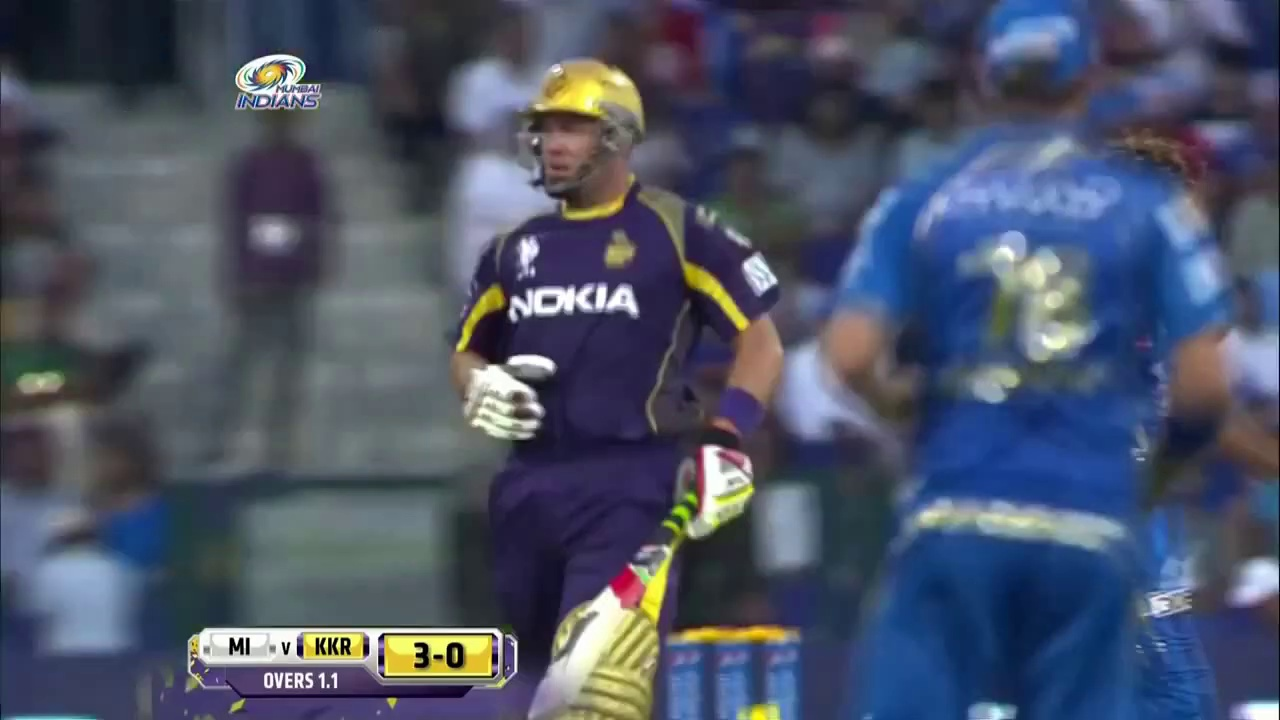bat: (523, 489, 709, 715)
batter: (504, 55, 661, 207)
scoreboard: (185, 623, 520, 702)
